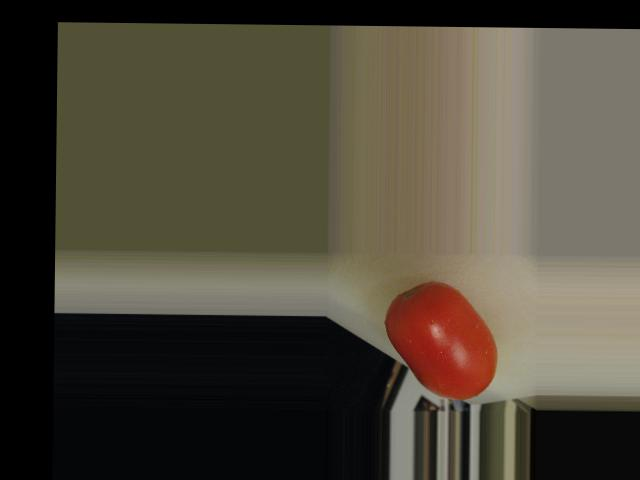tomato: (384, 281, 498, 400)
